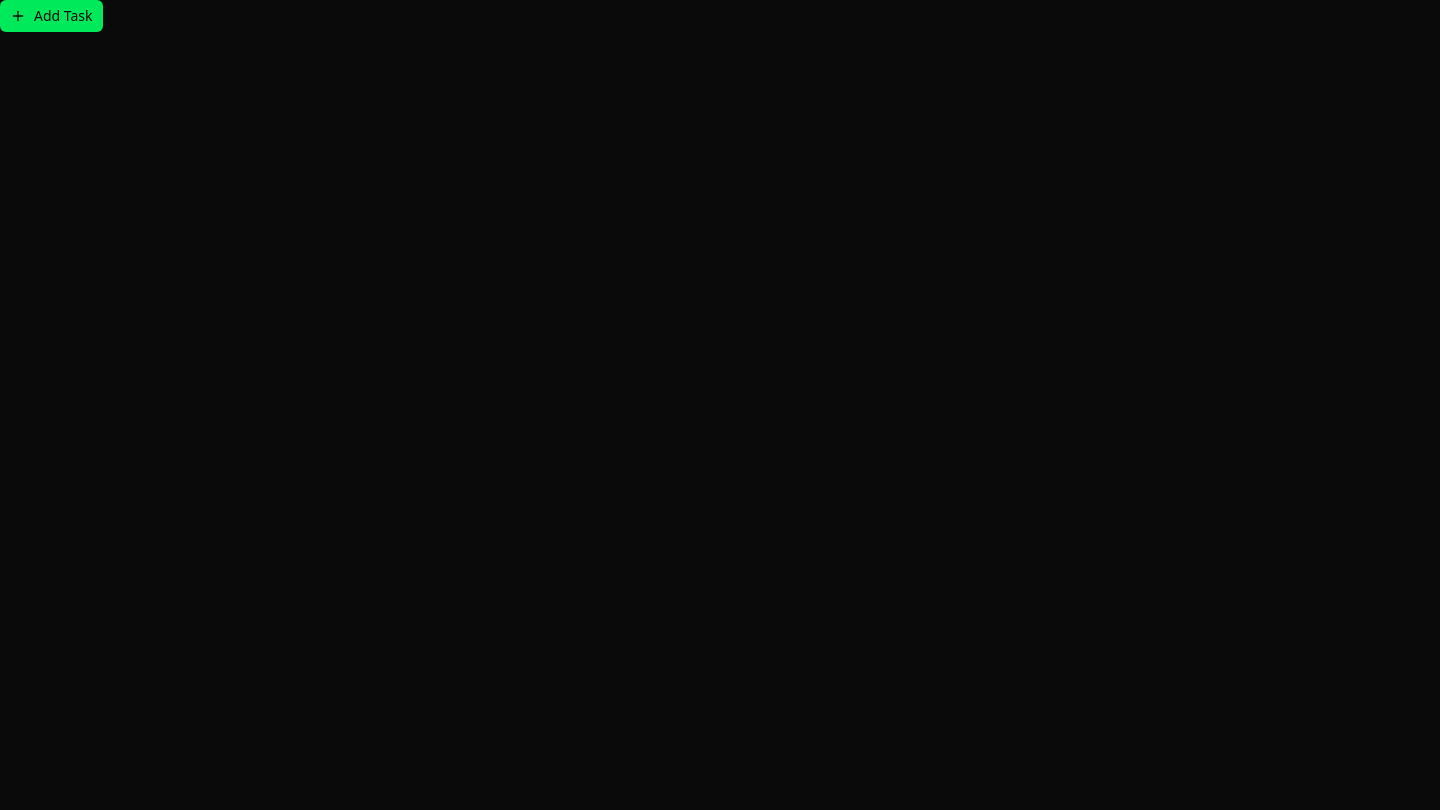
Test: AddTaskDialog › resets form after successful submission
Click the button "Add Task": (51, 16) left=0, top=0, right=102, bottom=32
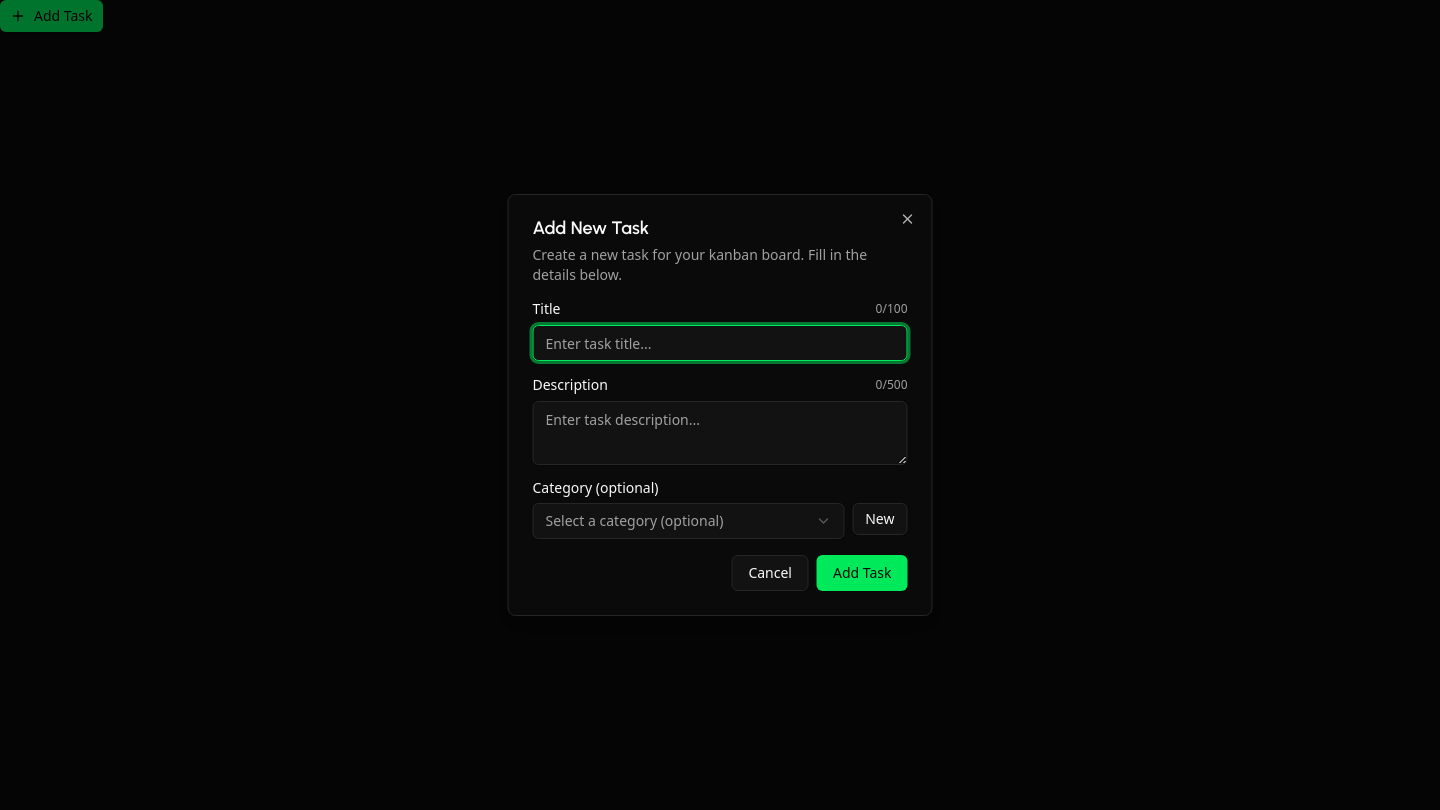
expect the field labelled "Title" is shown: met
In the field labelled "Title": (720, 343) left=532, top=325, right=908, bottom=361, type "Test Task"
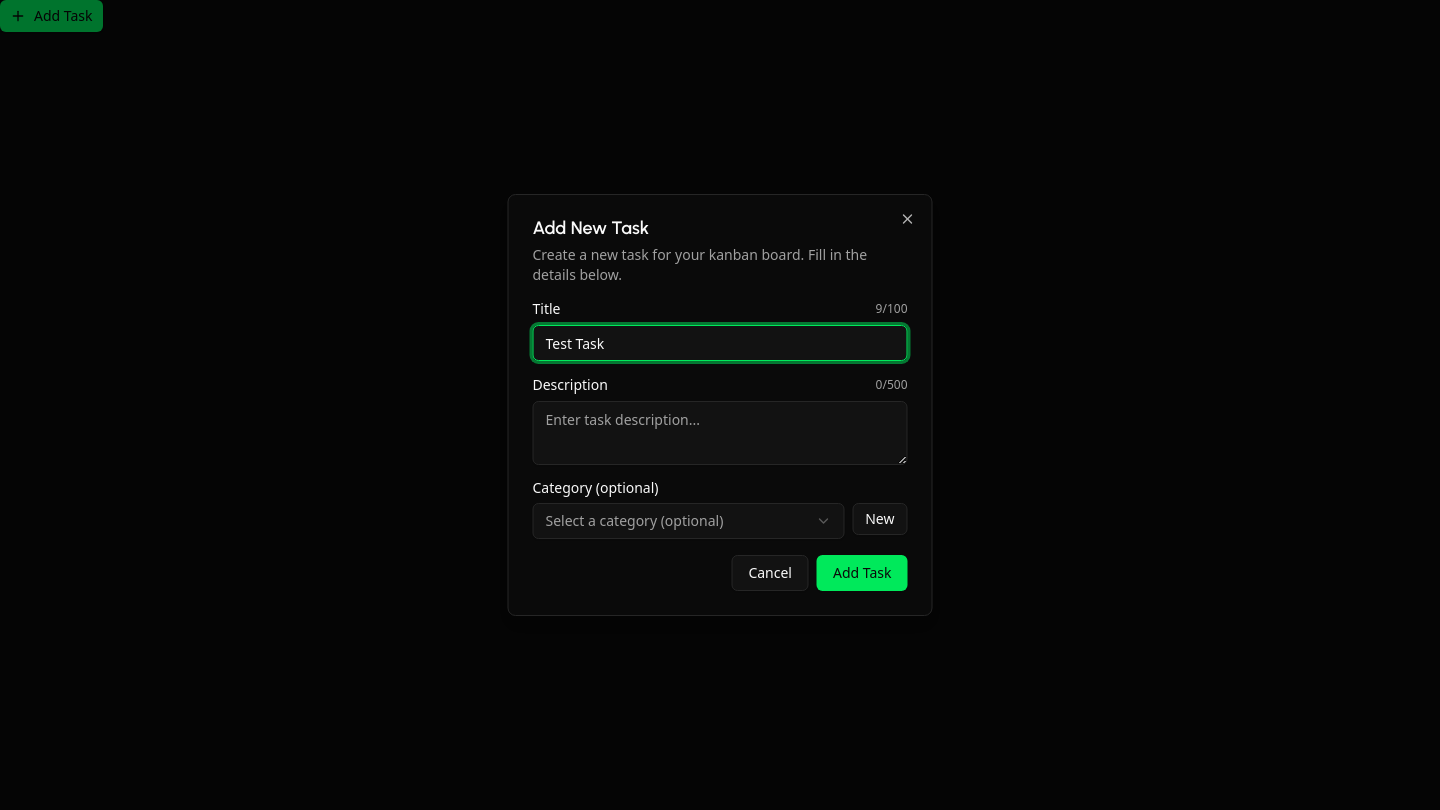
Click the button "Add Task": (862, 573) left=817, top=555, right=908, bottom=591
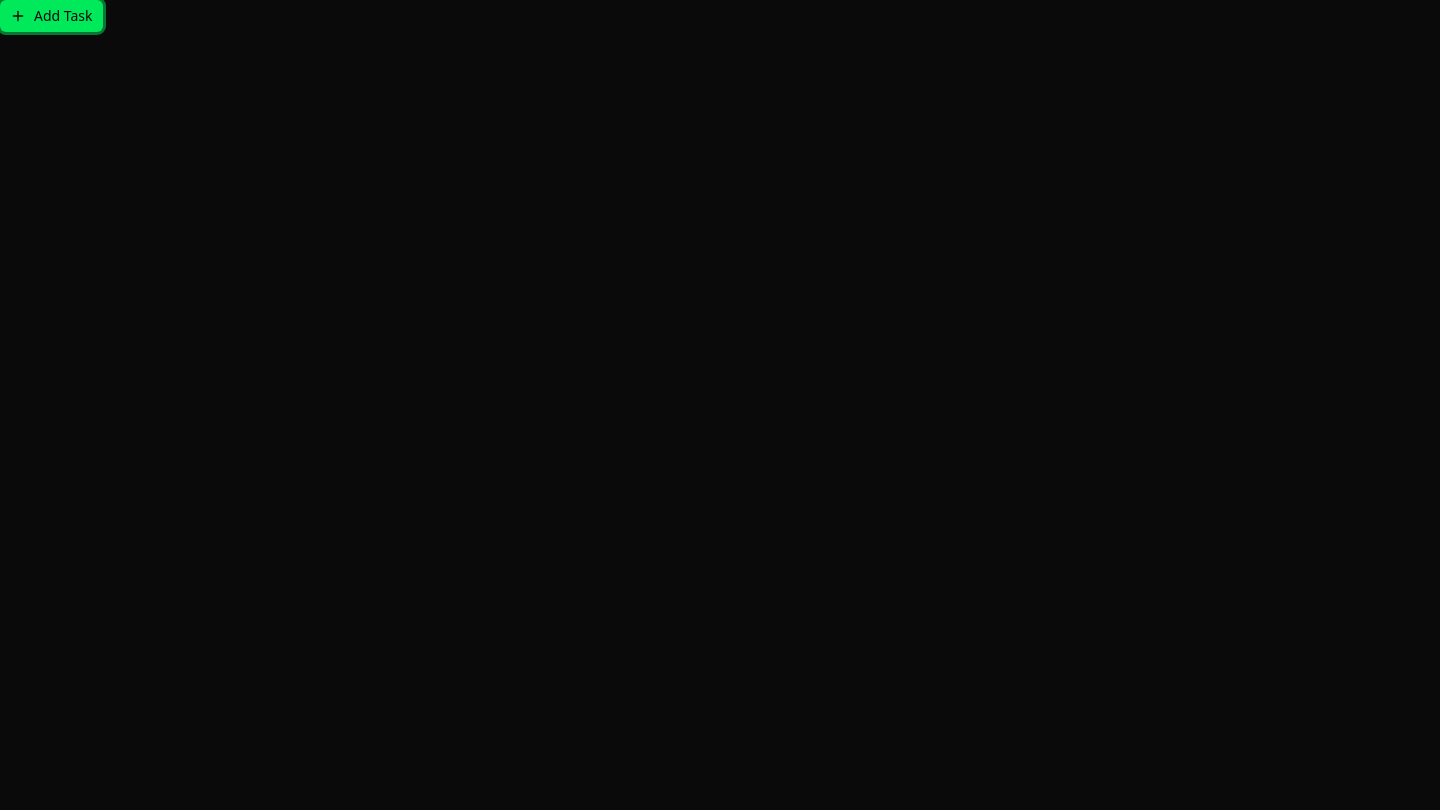
expect the heading "Add New Task" is gone: met
